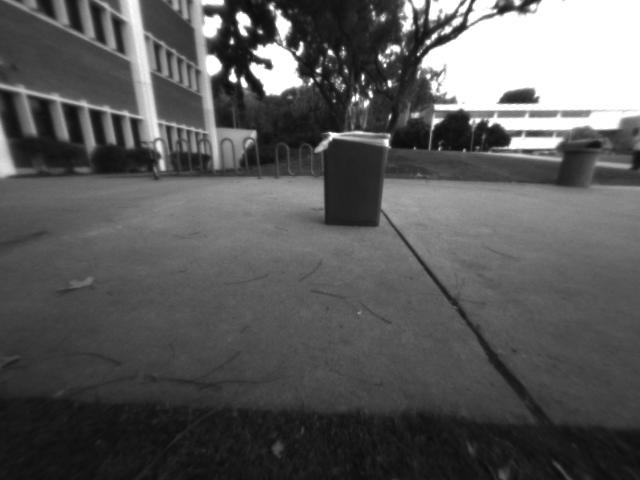trashcan_open: (319, 126, 390, 232)
